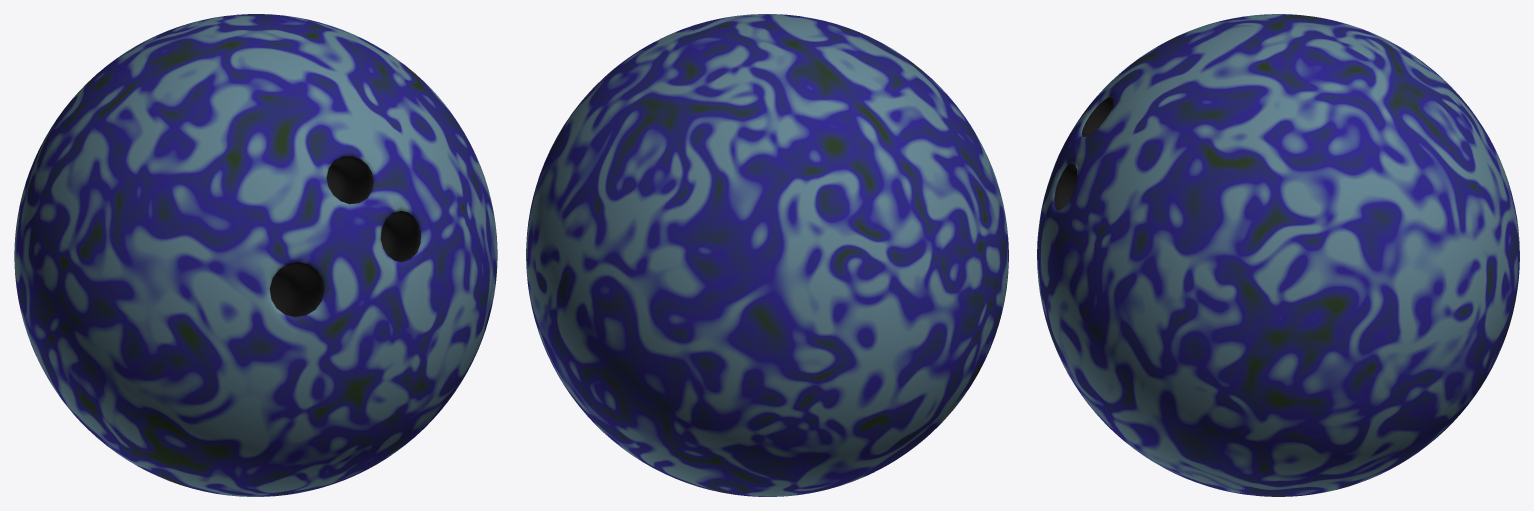
File: BlueBowlingBall.fbx
3 views of the same model, side by side, from view 1: azimuth 30°, elevation 25°; view 2: azimuth 150°, elevation 25°; view 3: azimuth 270°, elevation 25° (orthographic).
Visible parts, largest first — view 1: Sphere.002; view 2: Sphere.002; view 3: Sphere.002.
Part boxes in pixels (x1,y1,x2,y2): Sphere.002: (14, 14, 497, 496); Sphere.002: (526, 14, 1008, 496); Sphere.002: (1037, 14, 1519, 496).
Size of the model in its own units: 200 by 199 by 199.
